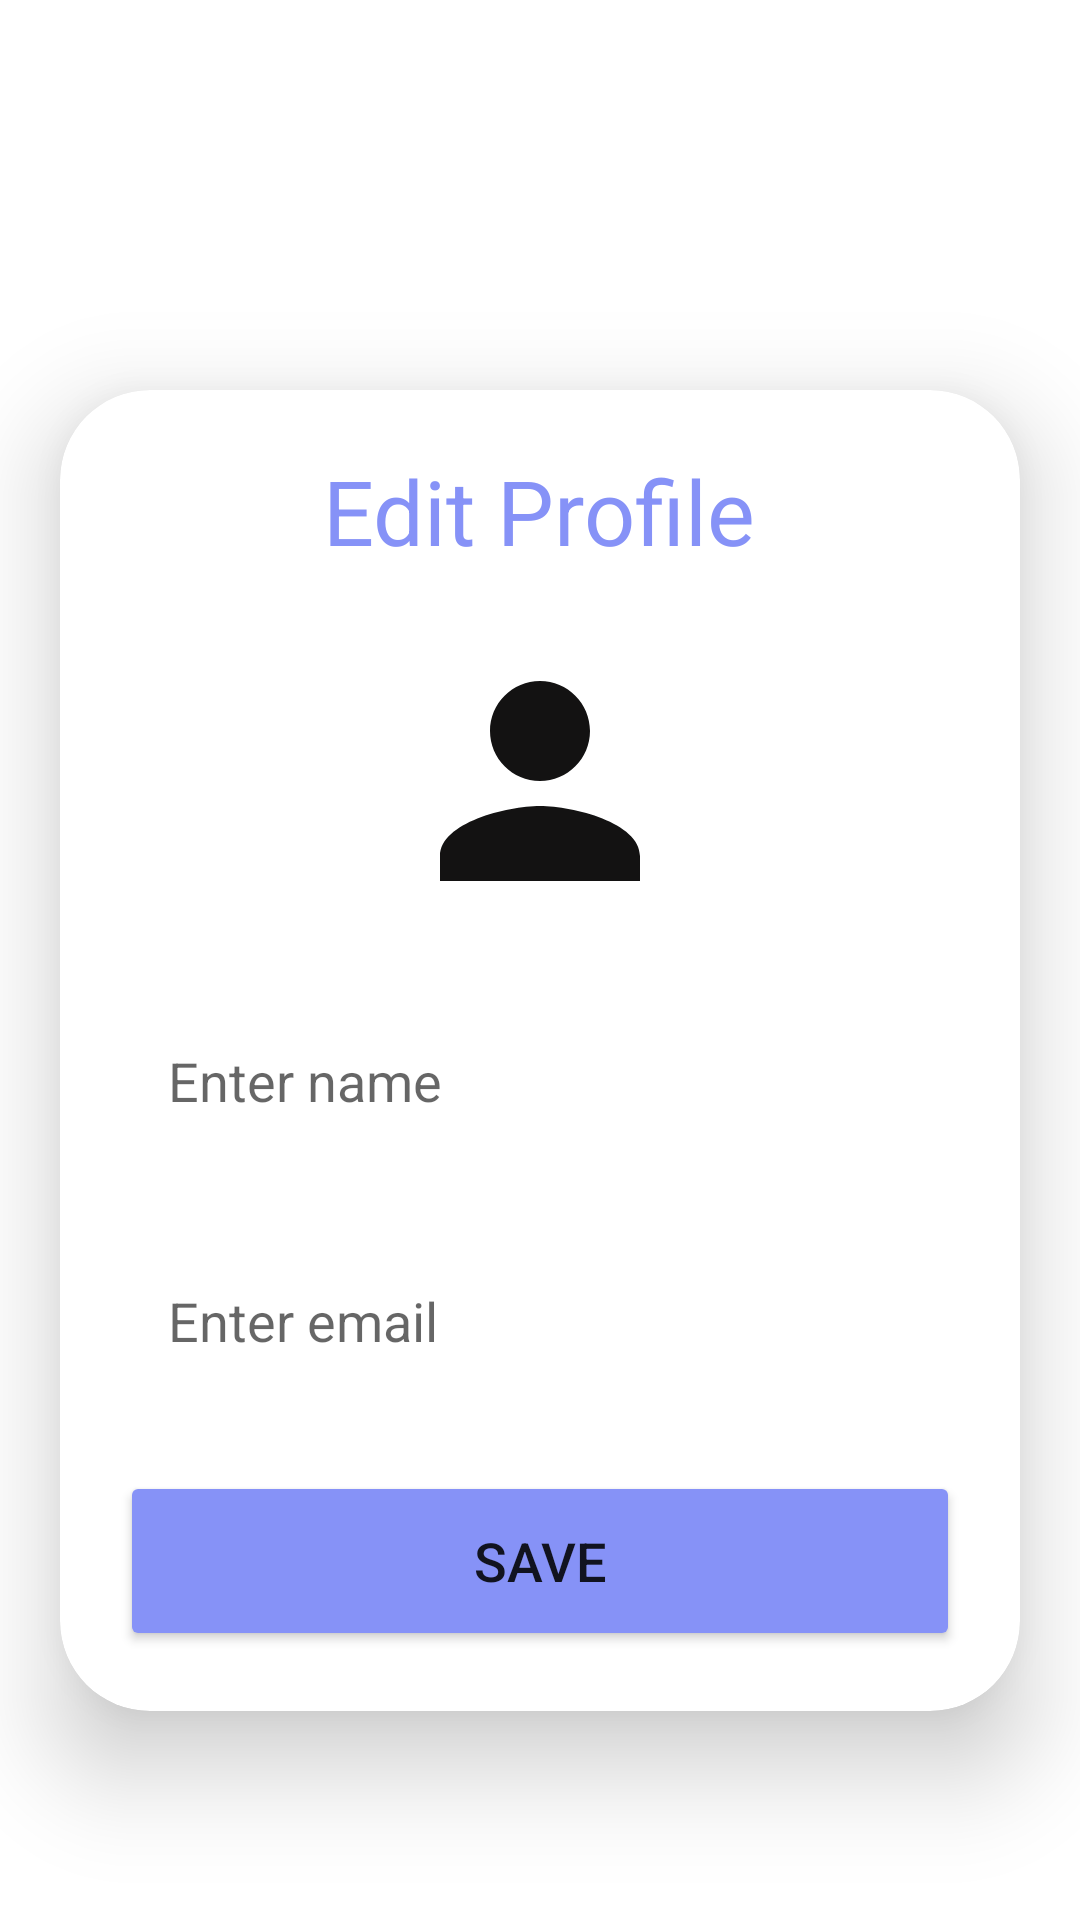

Named icons in this screenshot (1080 x 1920) and their bounding boxes, (x1, y1, x2, y2):
person: (440, 681, 640, 881)
